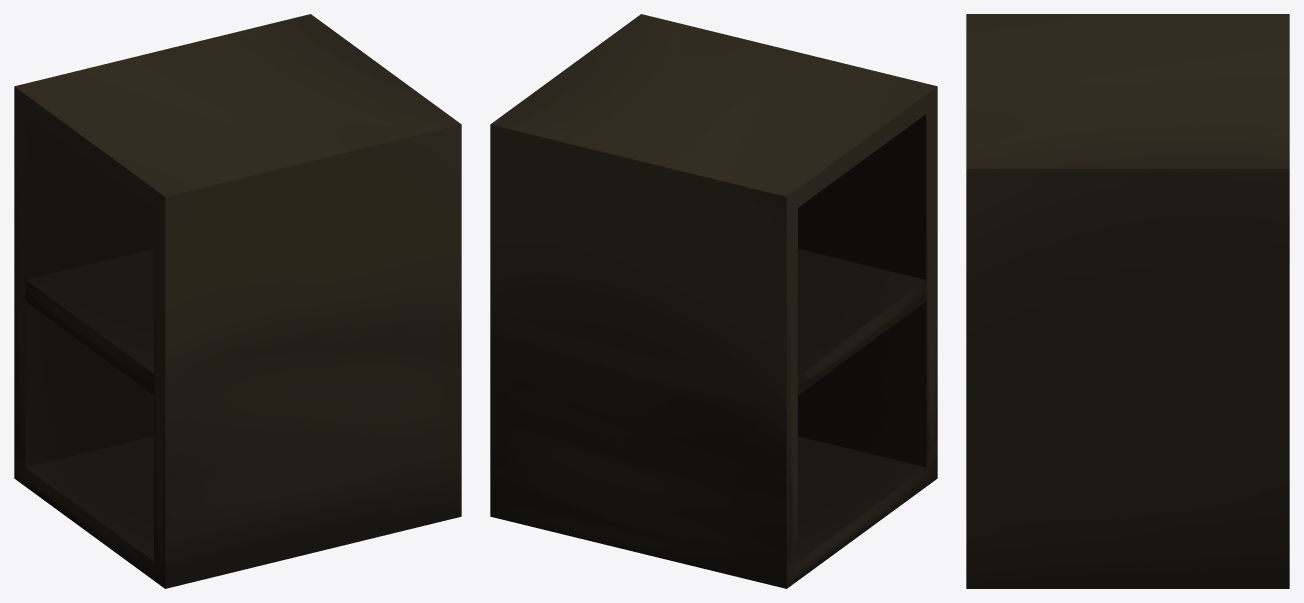
The model's file is Shelving.fbx.
The picture shows the model from 3 angles, left to right: view 1: azimuth 30°, elevation 25°; view 2: azimuth 150°, elevation 25°; view 3: azimuth 270°, elevation 25°; orthographic projection. The views are drawn at different scales.
Visible parts, largest first — view 1: Cube.005; view 2: Cube.005; view 3: Cube.005.
Part boxes in pixels (x1=…): Cube.005: x1=14, y1=14, x2=461, y2=588; Cube.005: x1=490, y1=14, x2=937, y2=588; Cube.005: x1=966, y1=14, x2=1289, y2=588.
Bounding box in the file's own units: 200 × 253 × 176.
